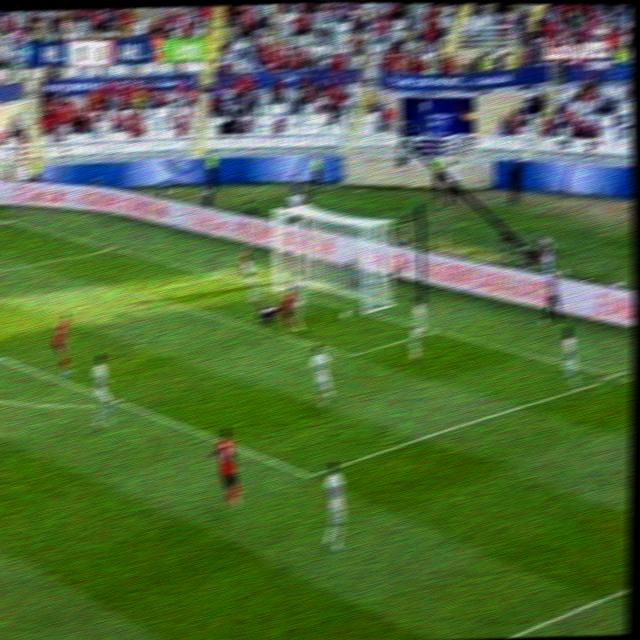bigarea_bottom_inner: (294, 461, 324, 488)
bigarea_bottom_outter: (598, 366, 628, 387)
bigarea_top_outter: (98, 240, 123, 255)
corner: (0, 212, 14, 229)
smallarea_bottom_inner: (342, 347, 358, 361)
smallarea_bottom_outter: (424, 323, 446, 339)
smallarea_top_inner: (126, 283, 150, 303)
smallarea_top_outter: (202, 267, 228, 284)
top_arc_area_intersection: (107, 394, 125, 410)
